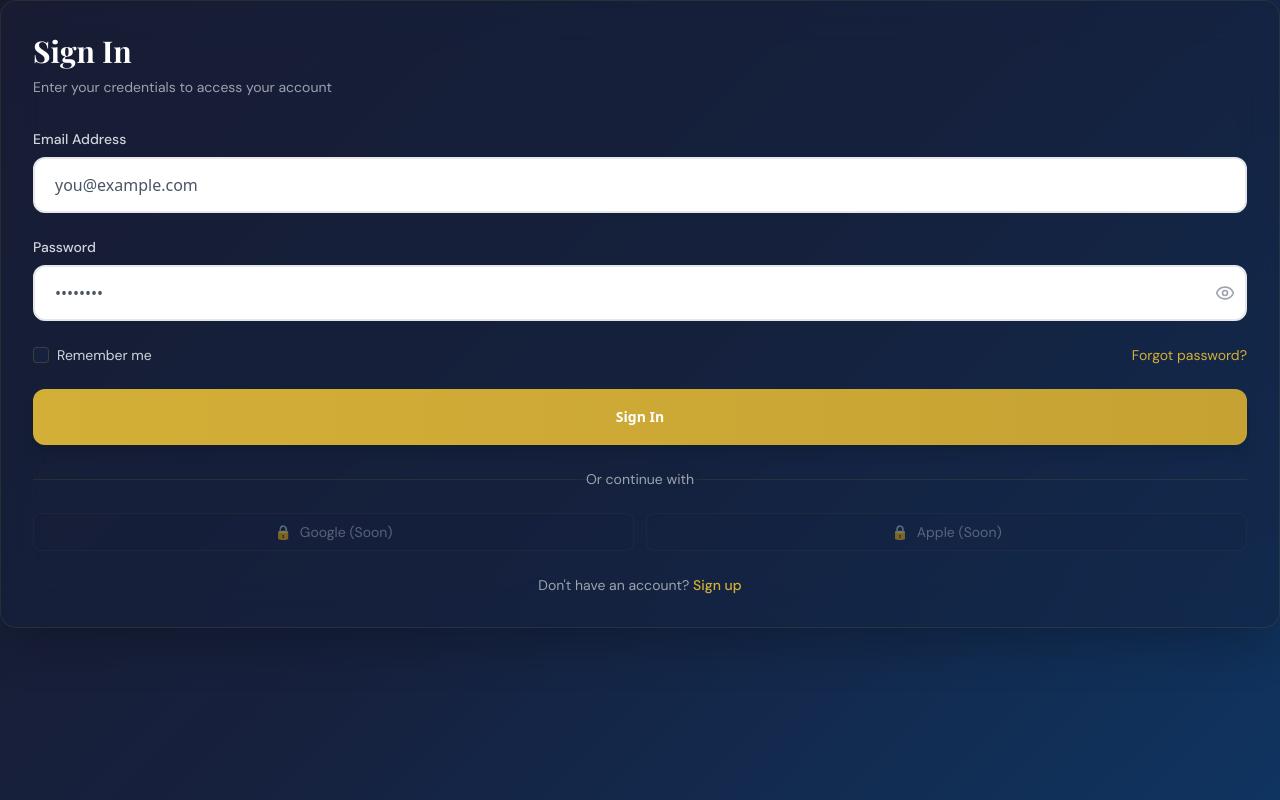
LoginForm - Validation Errors › shows email validation error on blur with invalid email
Type "invalid-email" into the field labelled "Email Address" at (640, 185), box [33, 157, 1247, 213]
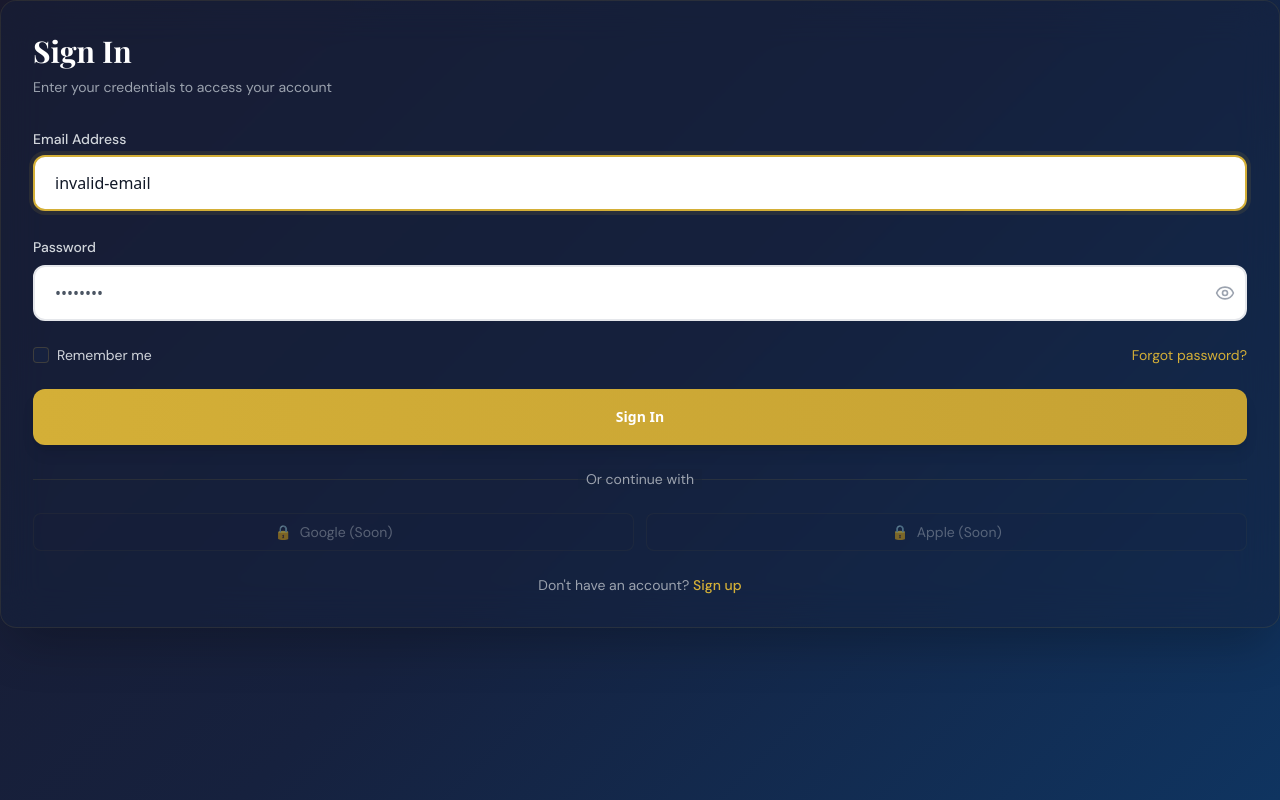
Press Tab
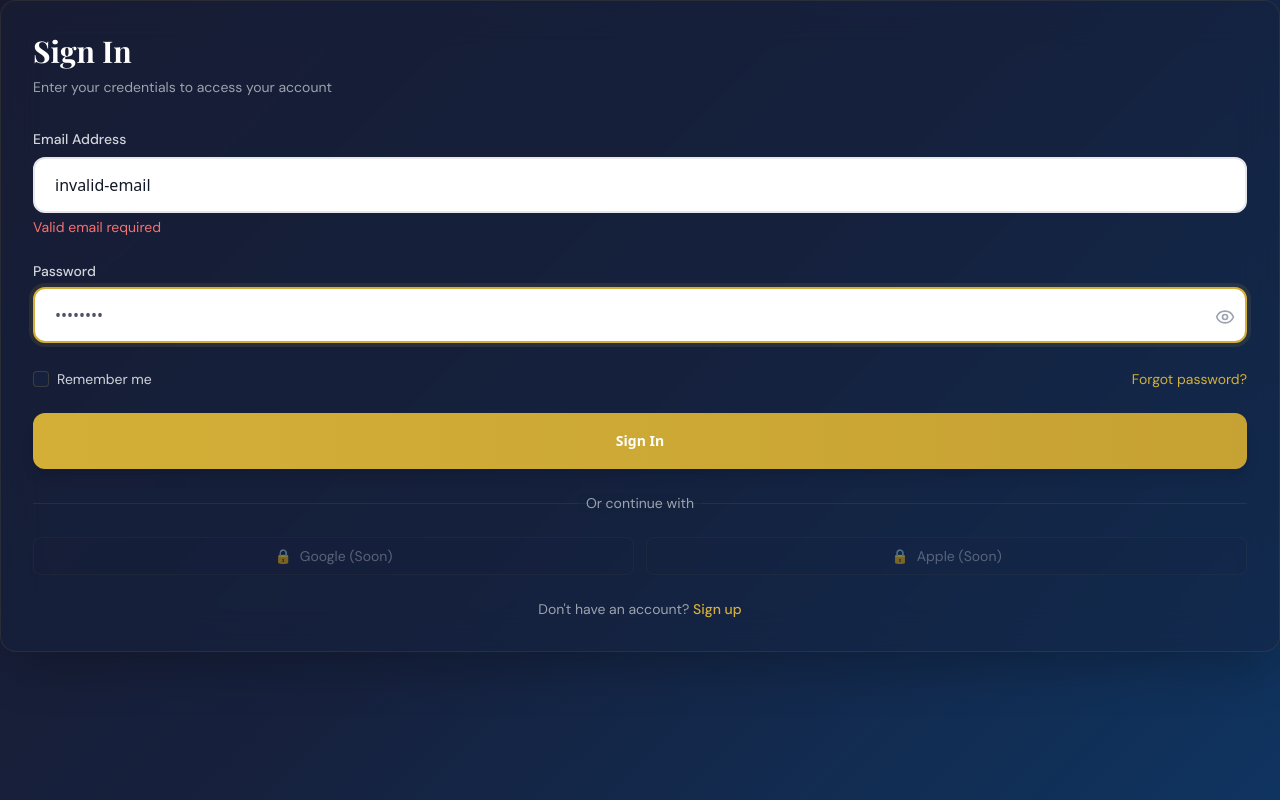
Expected: the text "Valid email required" is shown, [33, 218, 161, 236]
